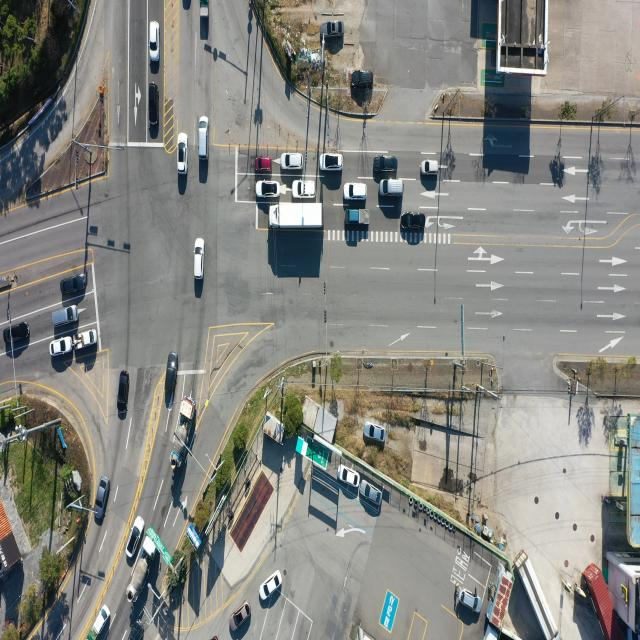car: (162, 351, 179, 402), (127, 514, 145, 558), (94, 477, 110, 522), (260, 570, 282, 602), (457, 588, 481, 615), (232, 603, 252, 633), (61, 274, 87, 296), (52, 306, 78, 328), (3, 326, 29, 348), (338, 464, 361, 487), (361, 482, 383, 506), (120, 370, 131, 416), (292, 178, 316, 198), (374, 156, 400, 174), (148, 84, 158, 130), (52, 338, 75, 358), (343, 182, 367, 201), (403, 212, 428, 230), (363, 422, 385, 442), (321, 154, 344, 173), (256, 180, 280, 198), (379, 178, 403, 196), (199, 115, 209, 158), (351, 69, 374, 87), (149, 21, 159, 62), (178, 133, 188, 173), (281, 154, 303, 172), (194, 239, 203, 281), (324, 21, 344, 38), (420, 161, 439, 176), (257, 155, 274, 170), (182, 0, 190, 11)
medium_truck: (517, 548, 559, 638), (170, 395, 196, 470), (268, 203, 323, 231), (127, 546, 154, 603)
small_truck: (90, 605, 109, 640), (188, 526, 204, 554), (75, 328, 96, 348), (347, 209, 371, 226), (199, 0, 212, 21)
